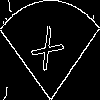X: (25, 25, 65, 81)
